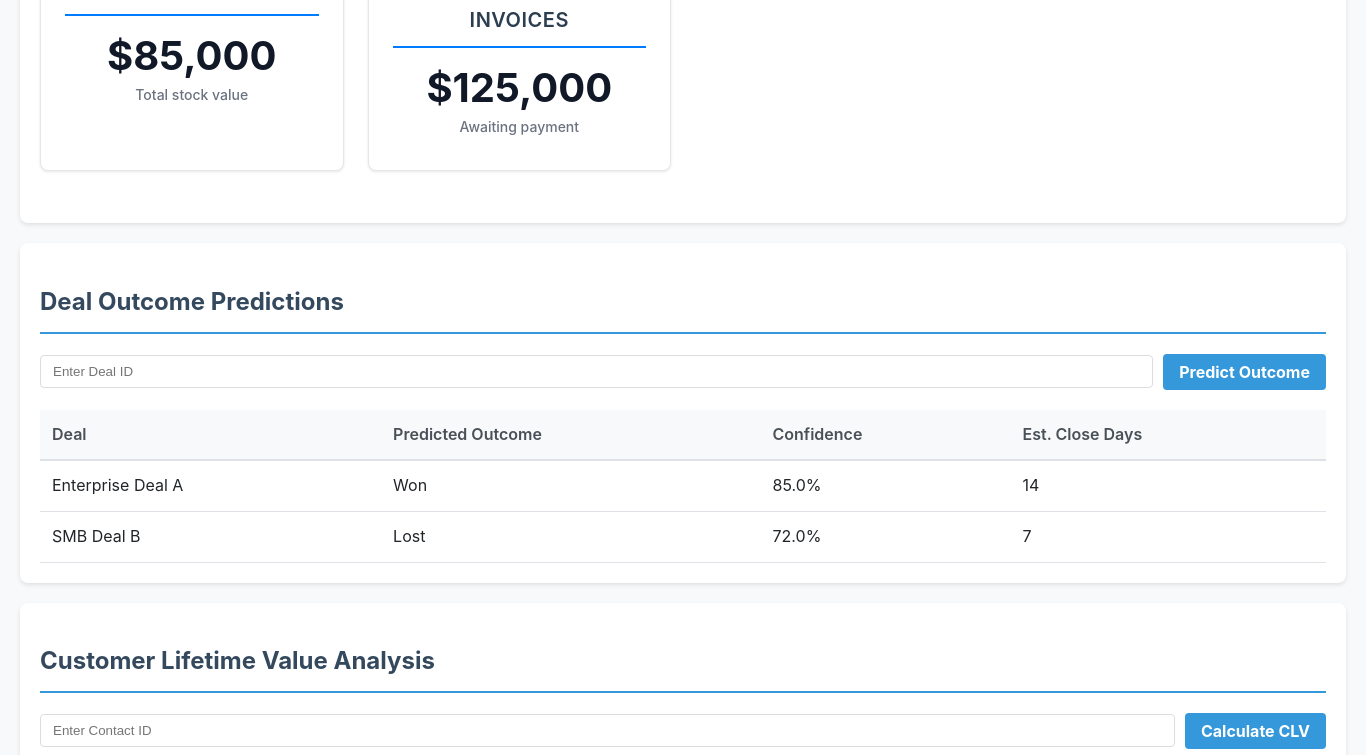
Test: AnalyticsDashboard › Error Handling › handles deal prediction errors gracefully
The image size is (1366, 755).
(page scrolled)
Type "123" into the field with placeholder "Enter Deal ID" at (597, 372), box [40,355,1153,388]
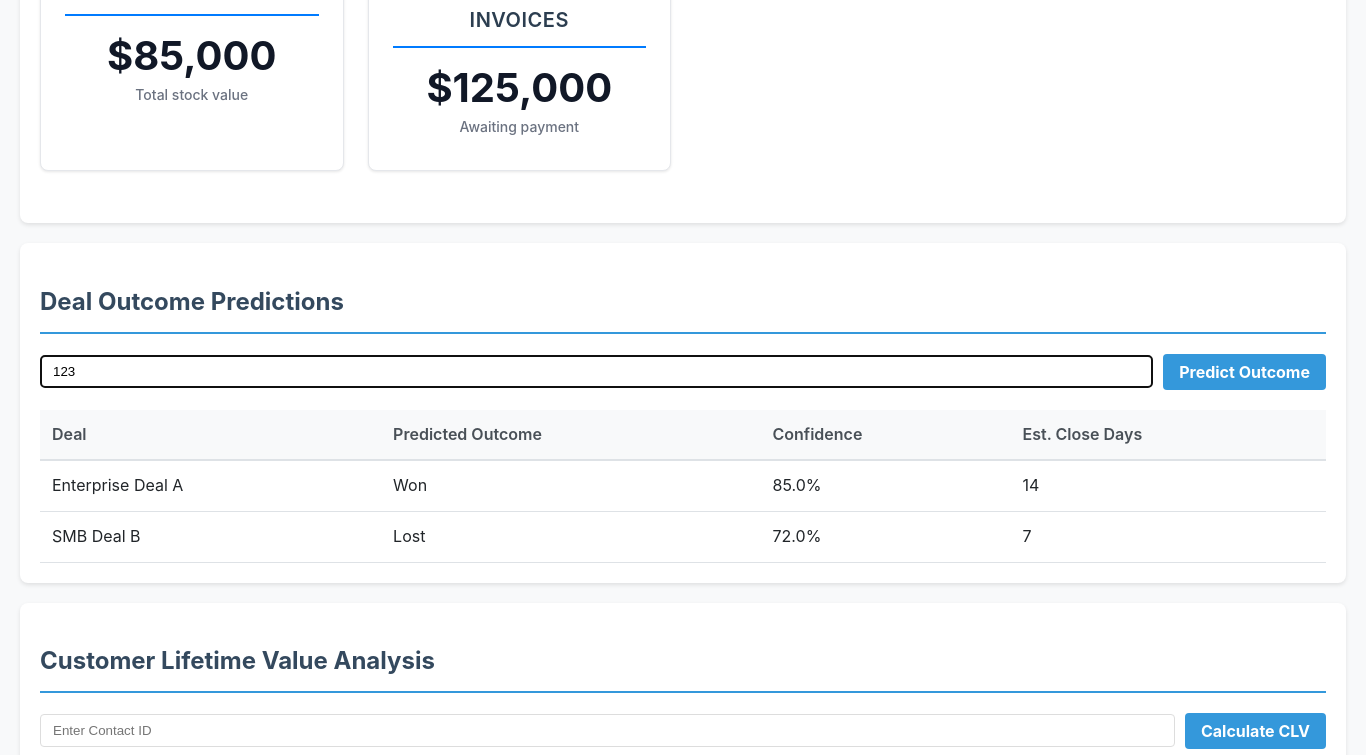
Click the button "Predict Outcome" at (1245, 372), box [1163,354,1326,390]
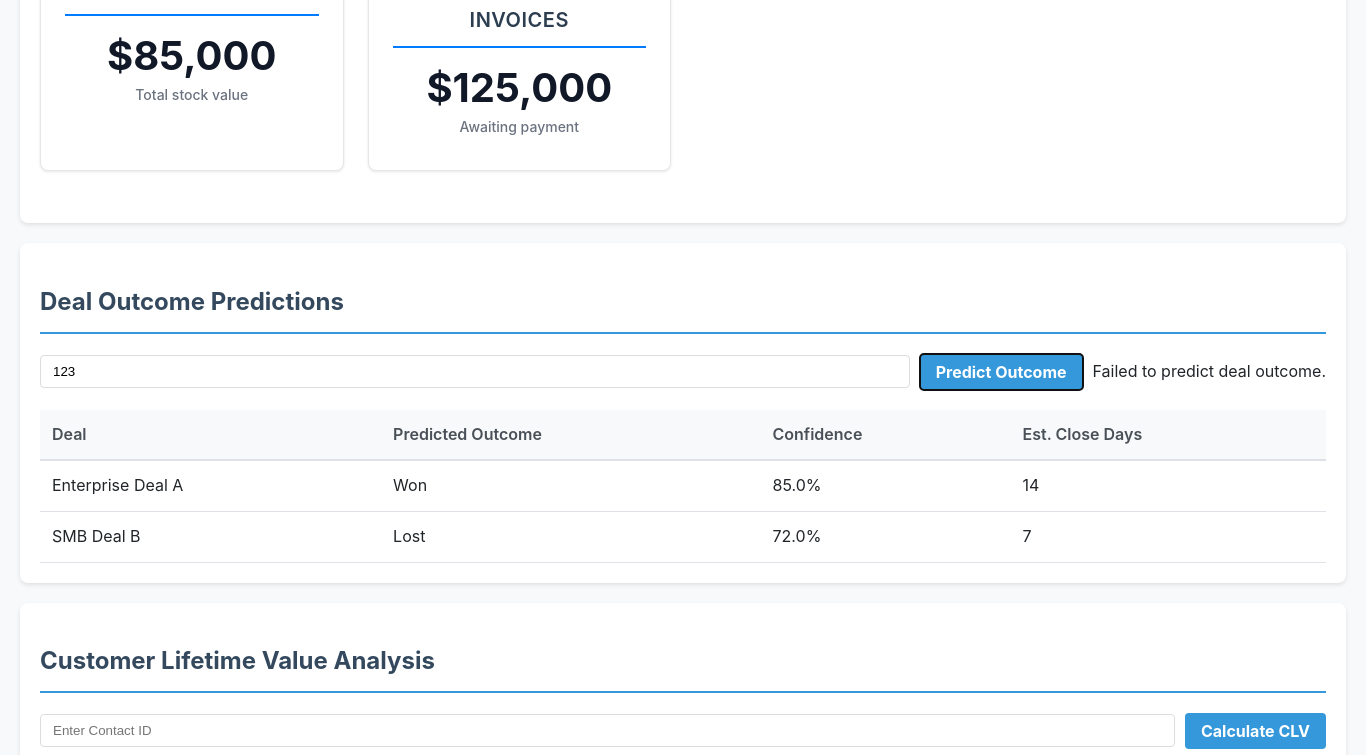
Now the text "Failed to predict deal outcome." is shown, box [1092,359,1326,384]
